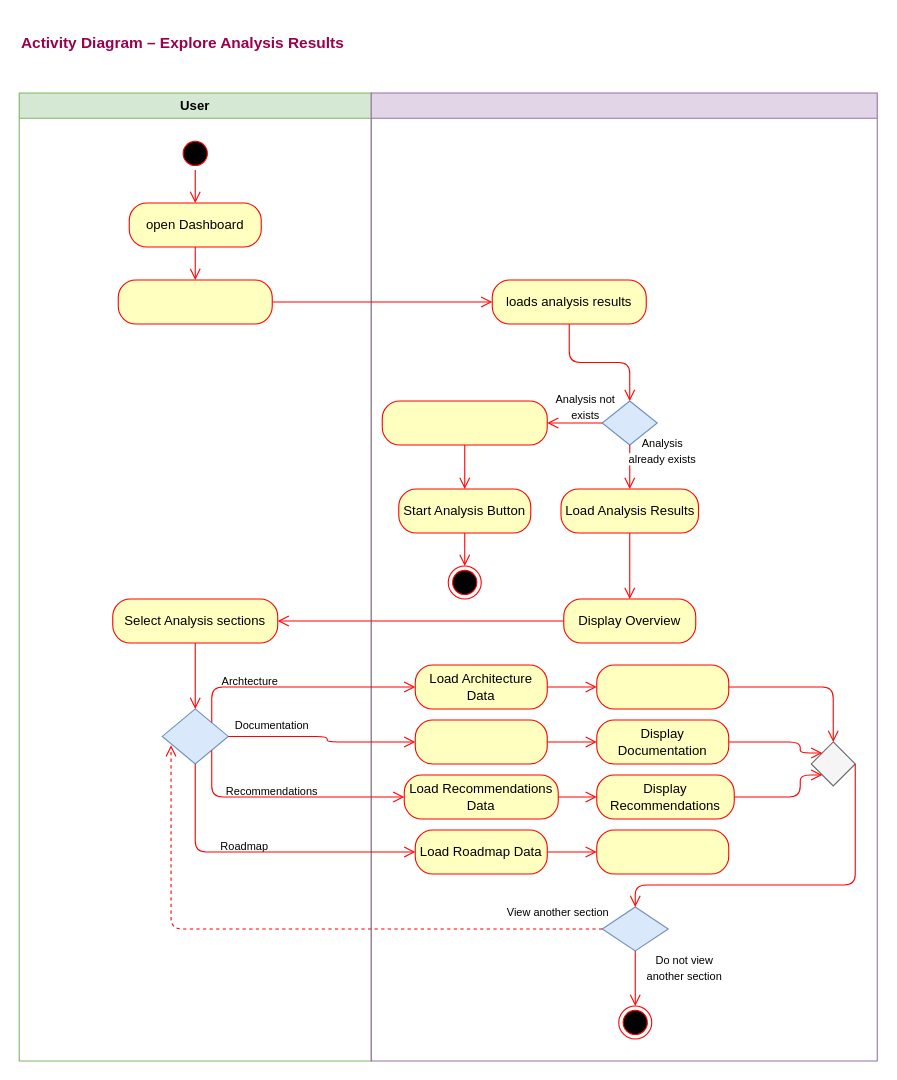
The diagram is 897 pixels wide and 1080 high, and some of its shapes have lost their labels. The shapes that lost their labels are listed below. From the top down, each one's box as (x1, y1, x2, y2) in pixels, then its label:
(117, 279, 272, 324): Select Existing Project
(381, 400, 547, 445): Display "Analysis not available"
(370, 92, 877, 1061): LegacyLens AI system
(596, 664, 729, 709): Dispaly Archtecture
(414, 719, 547, 764): Load Documentation Data
(596, 829, 729, 874): Dispaly Roadmap
